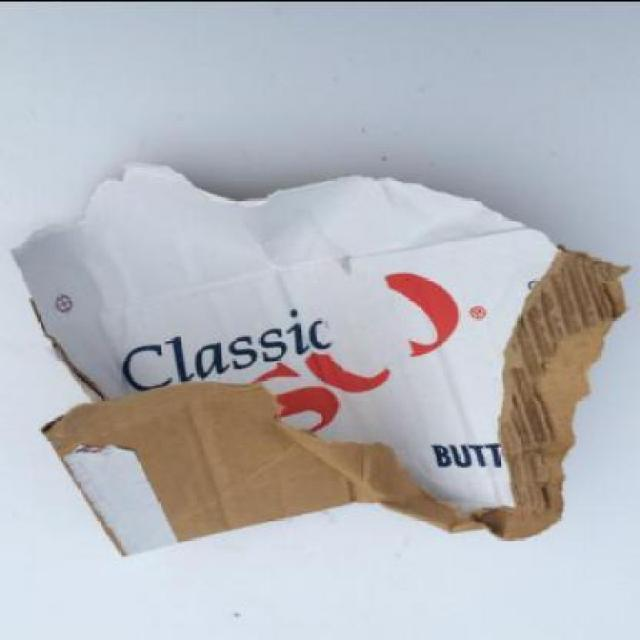box: (4, 155, 640, 573)
